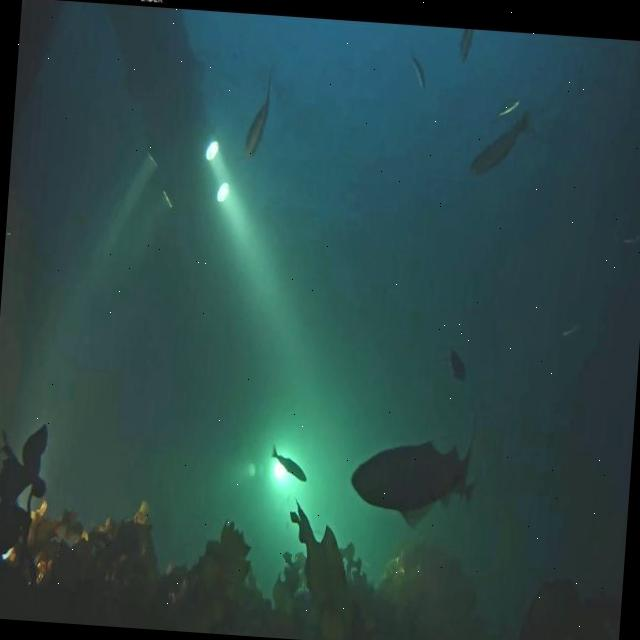fish: (346, 425, 479, 521), (468, 112, 529, 176), (244, 68, 272, 158), (271, 445, 308, 483), (446, 344, 470, 384), (406, 54, 428, 90), (496, 96, 524, 118), (458, 28, 474, 65), (559, 318, 582, 339)
